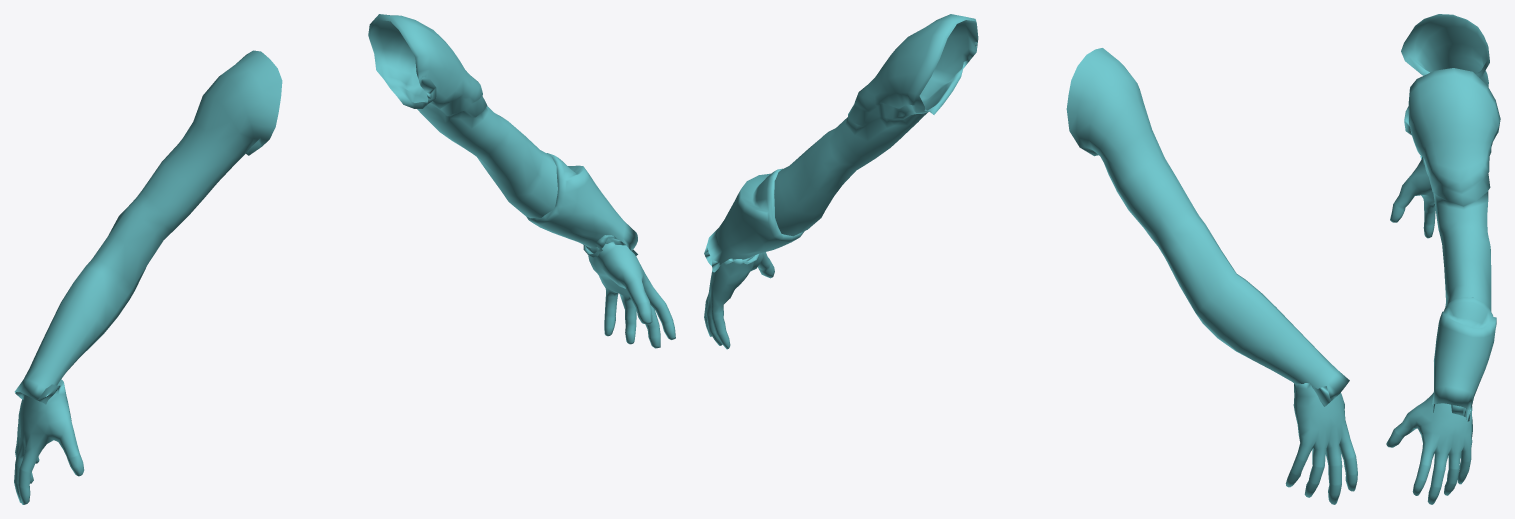
The model's file is paladins_hands2.obj.
3 renders of one model, left to right at view 1: azimuth 30°, elevation 25°; view 2: azimuth 150°, elevation 25°; view 3: azimuth 270°, elevation 25°, orthographic. The views are drawn at different scales.
Visible parts, largest first — view 1: paladins_skye_arms2; view 2: paladins_skye_arms2; view 3: paladins_skye_arms2.
Boxes of the visible parts, x1=… form: paladins_skye_arms2: x1=14, y1=14, x2=675, y2=504; paladins_skye_arms2: x1=704, y1=14, x2=1357, y2=504; paladins_skye_arms2: x1=1386, y1=14, x2=1500, y2=504.
Size of the model in its own units: 36.49 by 21.07 by 6.48.
